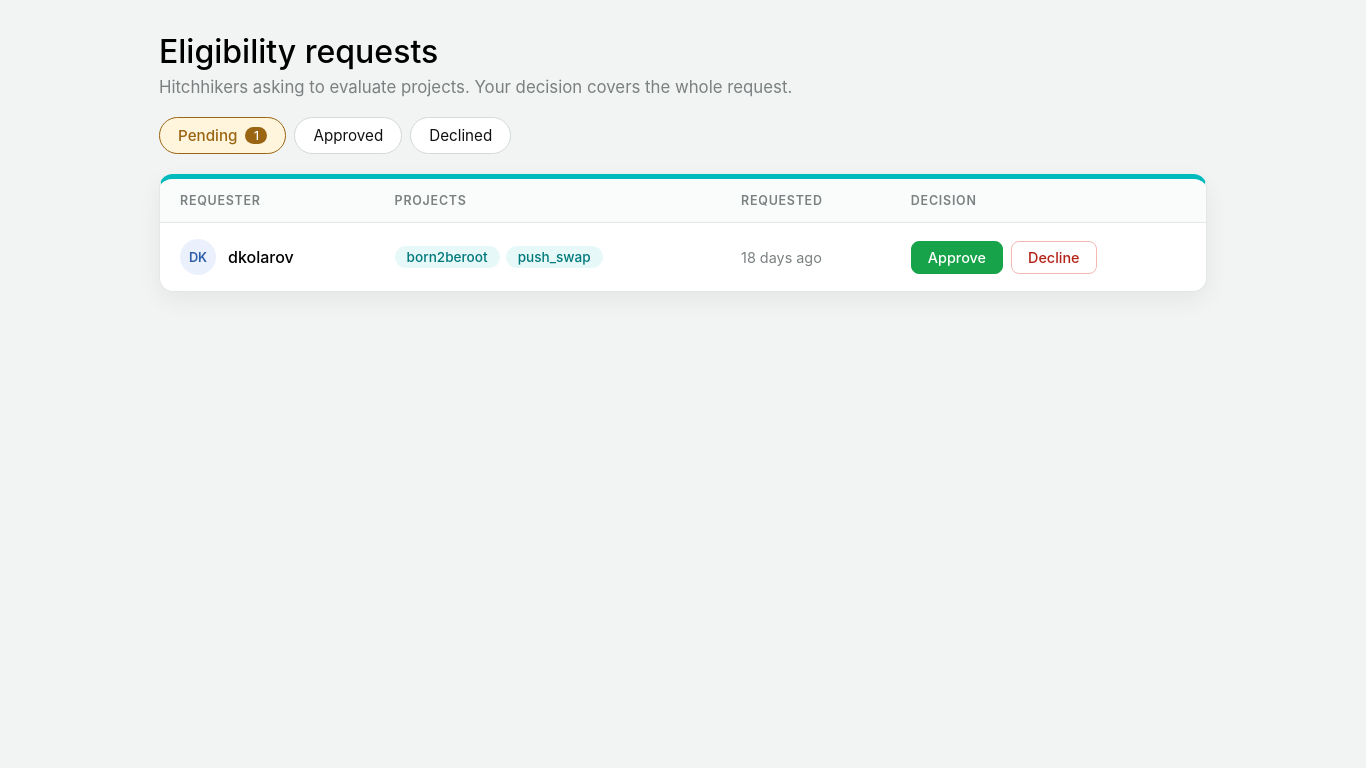
Test case: EligibilityReviewPage › approves with a note and reloads the list
Click the button with aria-label "Approve dkolarov's request" at (957, 257), box [911,240,1003,274]
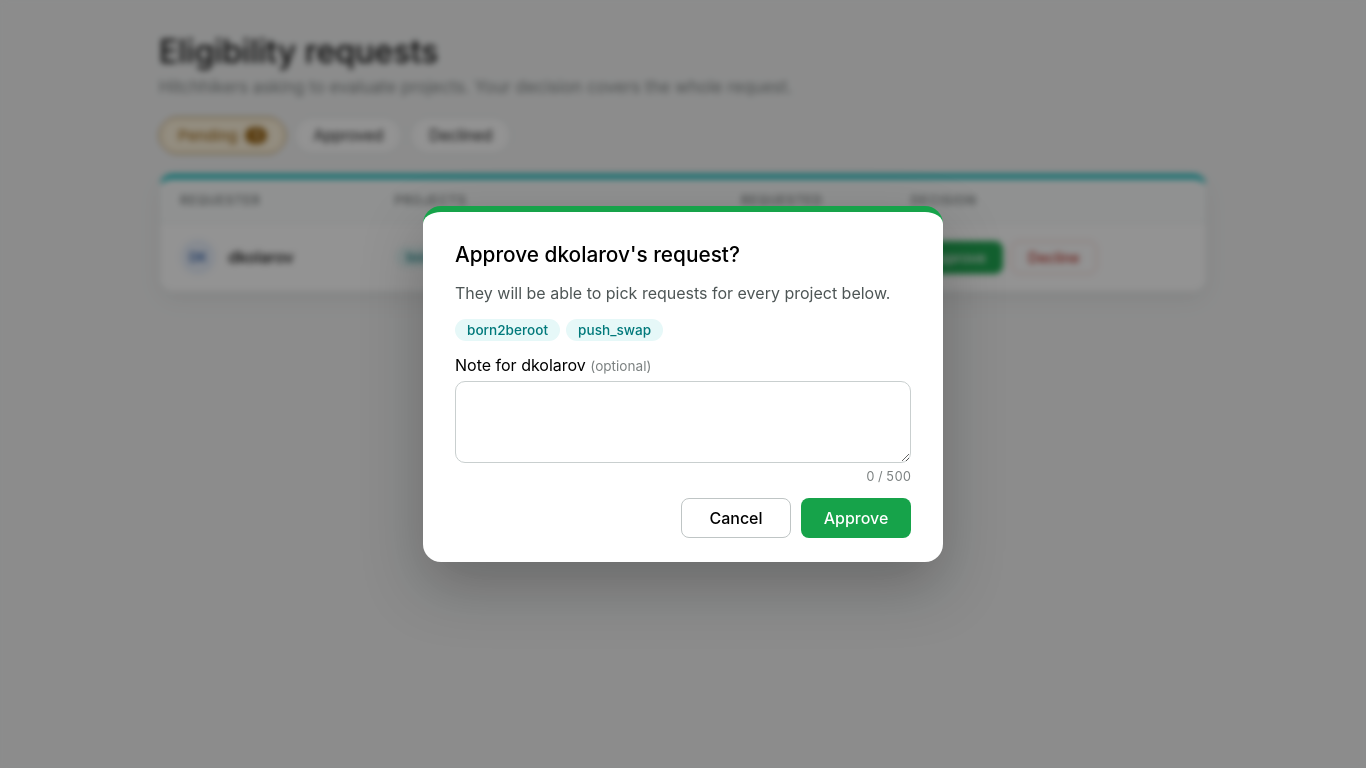
Type " Welcome! " into the text box at (683, 422), box [455,381,911,463]
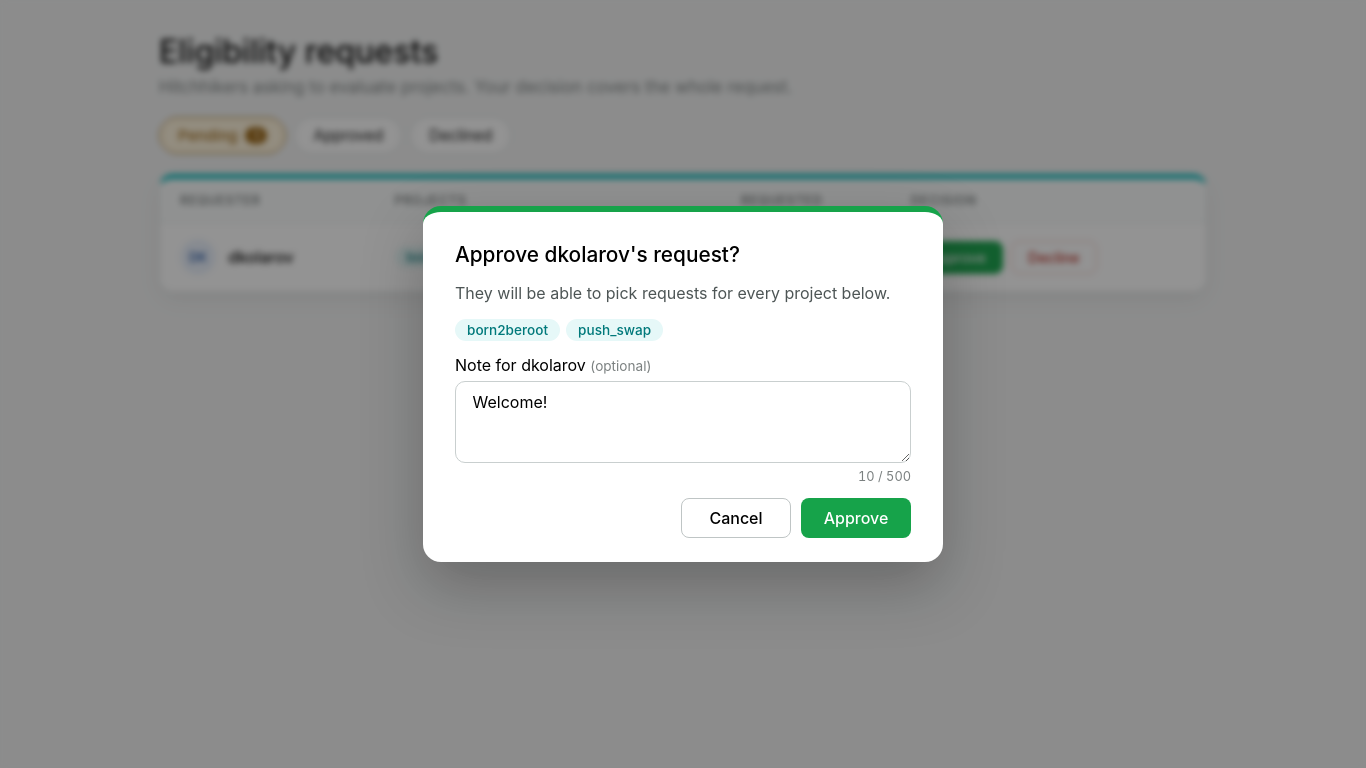
Click the button "Approve" at (856, 518), box [801,498,911,538]
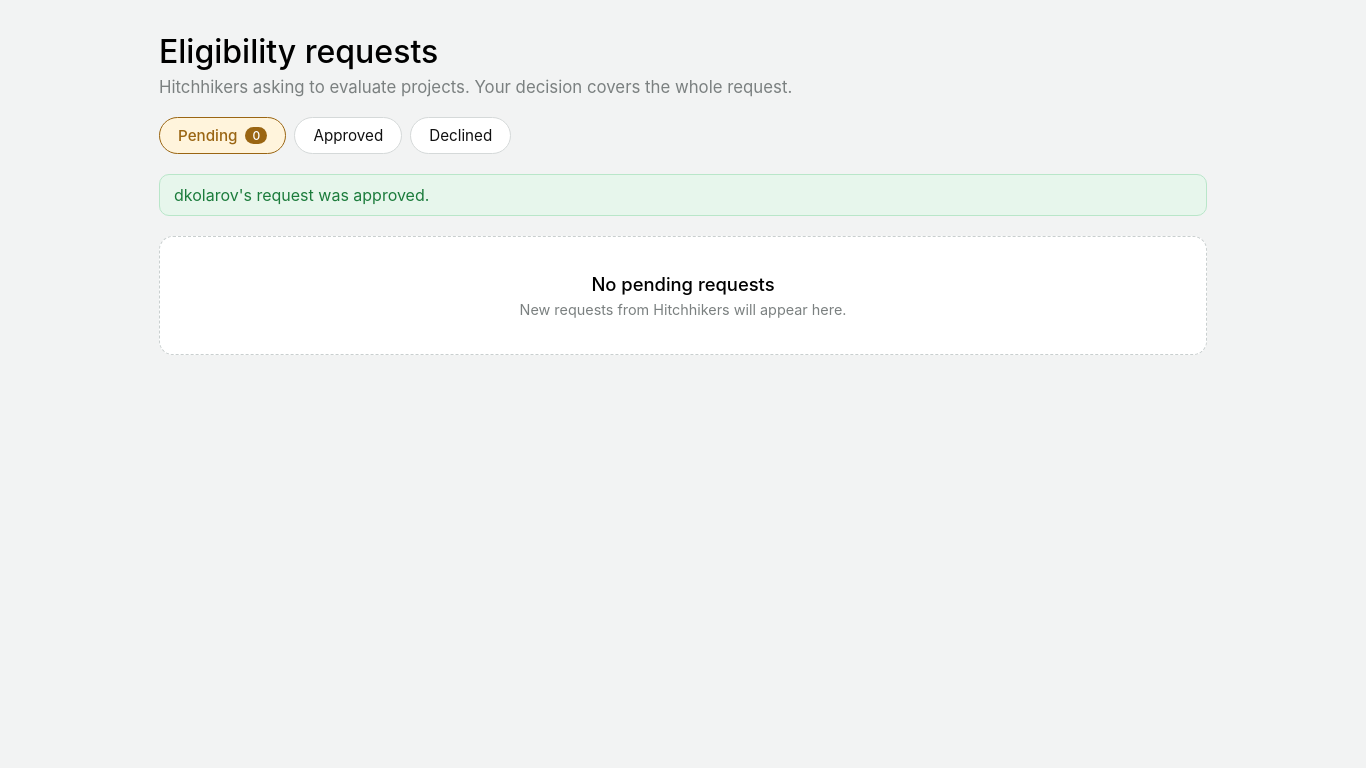
Check: the message reads "dkolarov's request was approved.", box [174,185,429,205]
Check: the dialog is gone
Check: the heading "No pending requests" is shown, box [591,273,775,295]
